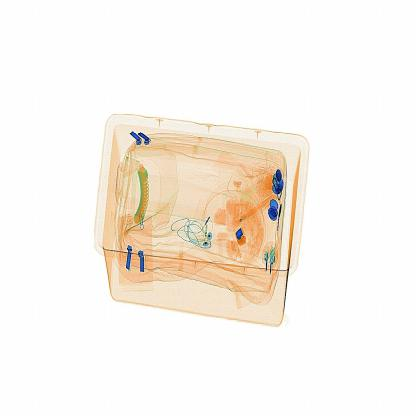wrench: (230, 219, 253, 255)
